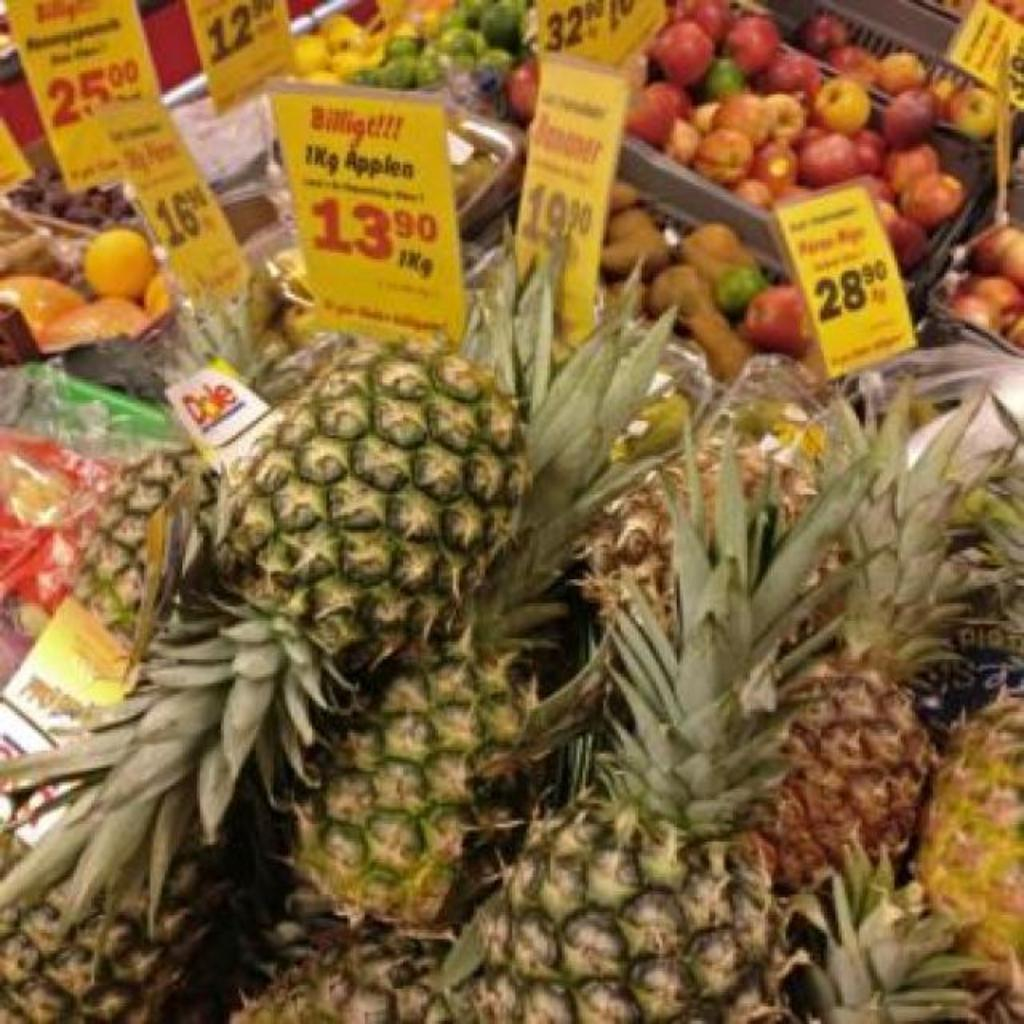pineapple: (0, 340, 516, 923), (298, 272, 670, 923), (444, 432, 832, 1024), (758, 410, 970, 889), (1, 864, 204, 1024), (918, 696, 1024, 959), (72, 448, 200, 657), (232, 922, 446, 1023)
